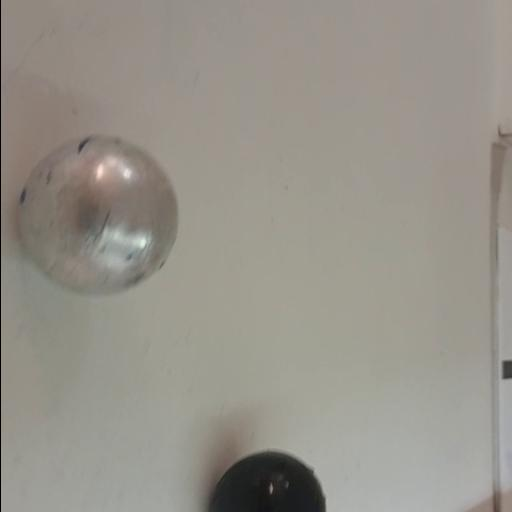alive: (12, 134, 180, 302)
dead: (208, 449, 326, 512)
